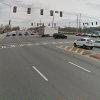Traffic light: (19, 3, 71, 21)
